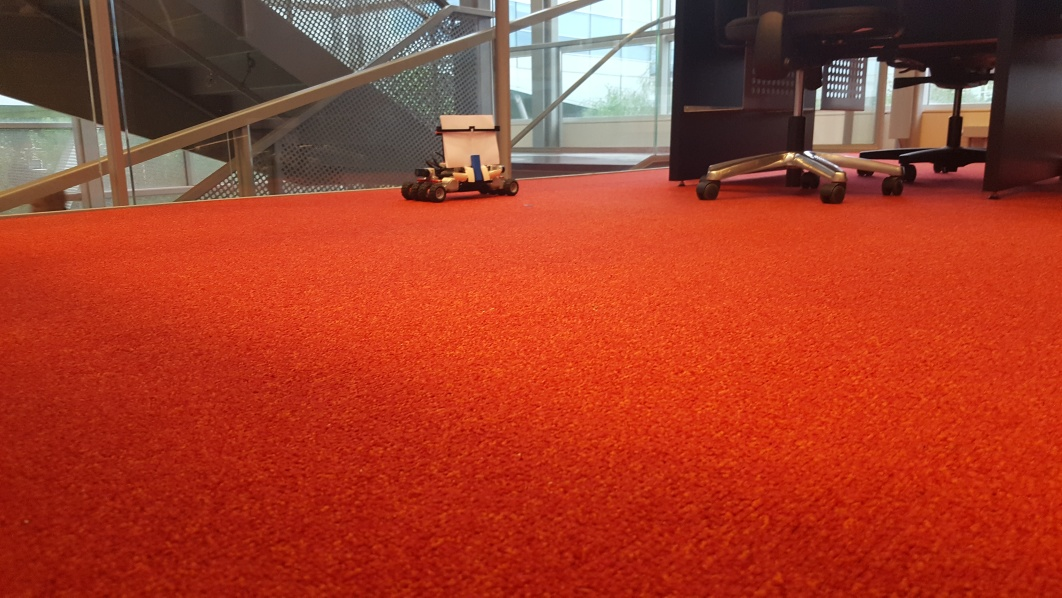car: (402, 116, 522, 202)
